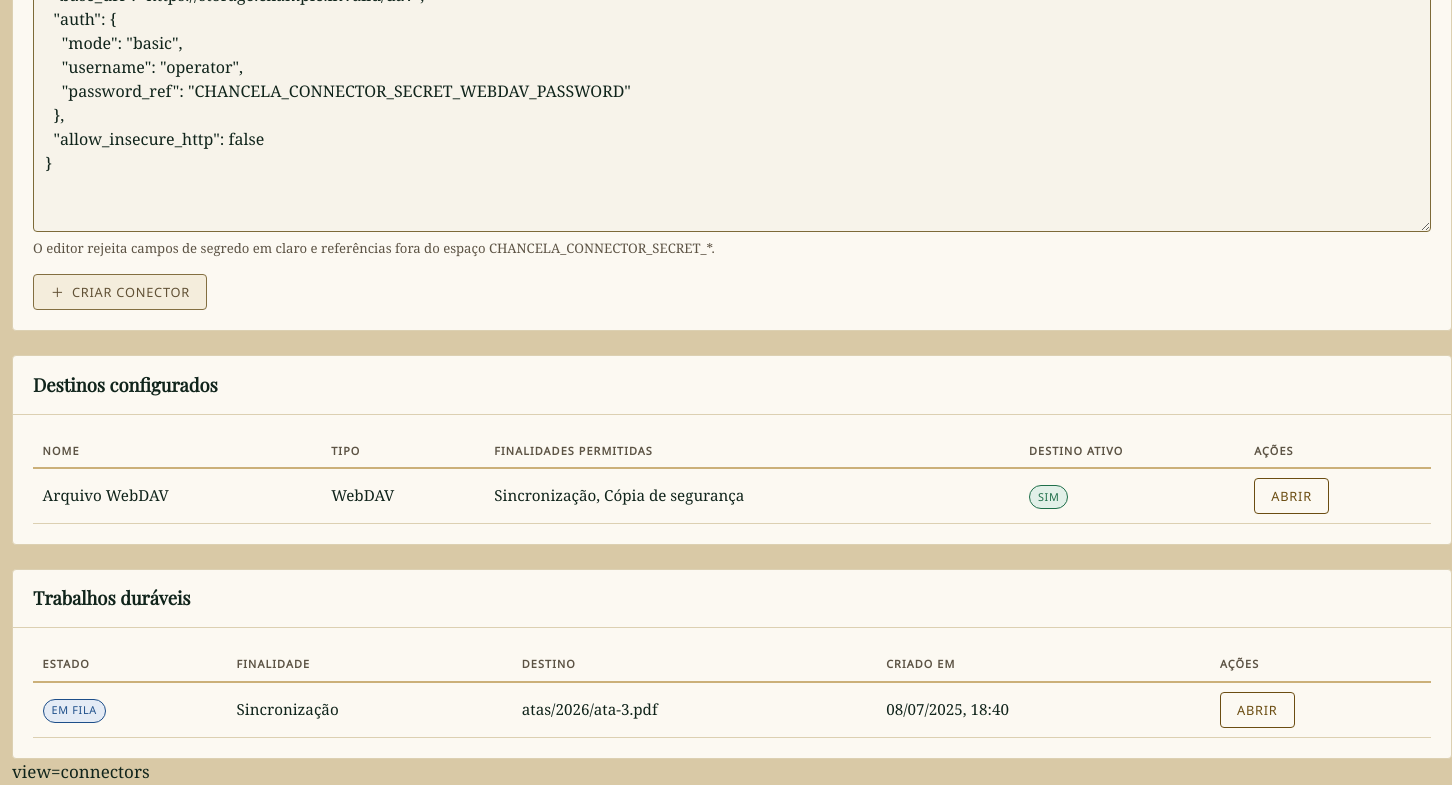
Scenario: connector target list › opens a target into a deep-linked editor
The width and height of the screenshot is (1452, 785).
What coordinates should you click on to do the following:
click the button "Abrir" in the row of "Arquivo WebDAV"
I would click on:
 (1292, 496)
Its box is [1254, 478, 1329, 514].
(page scrolled)
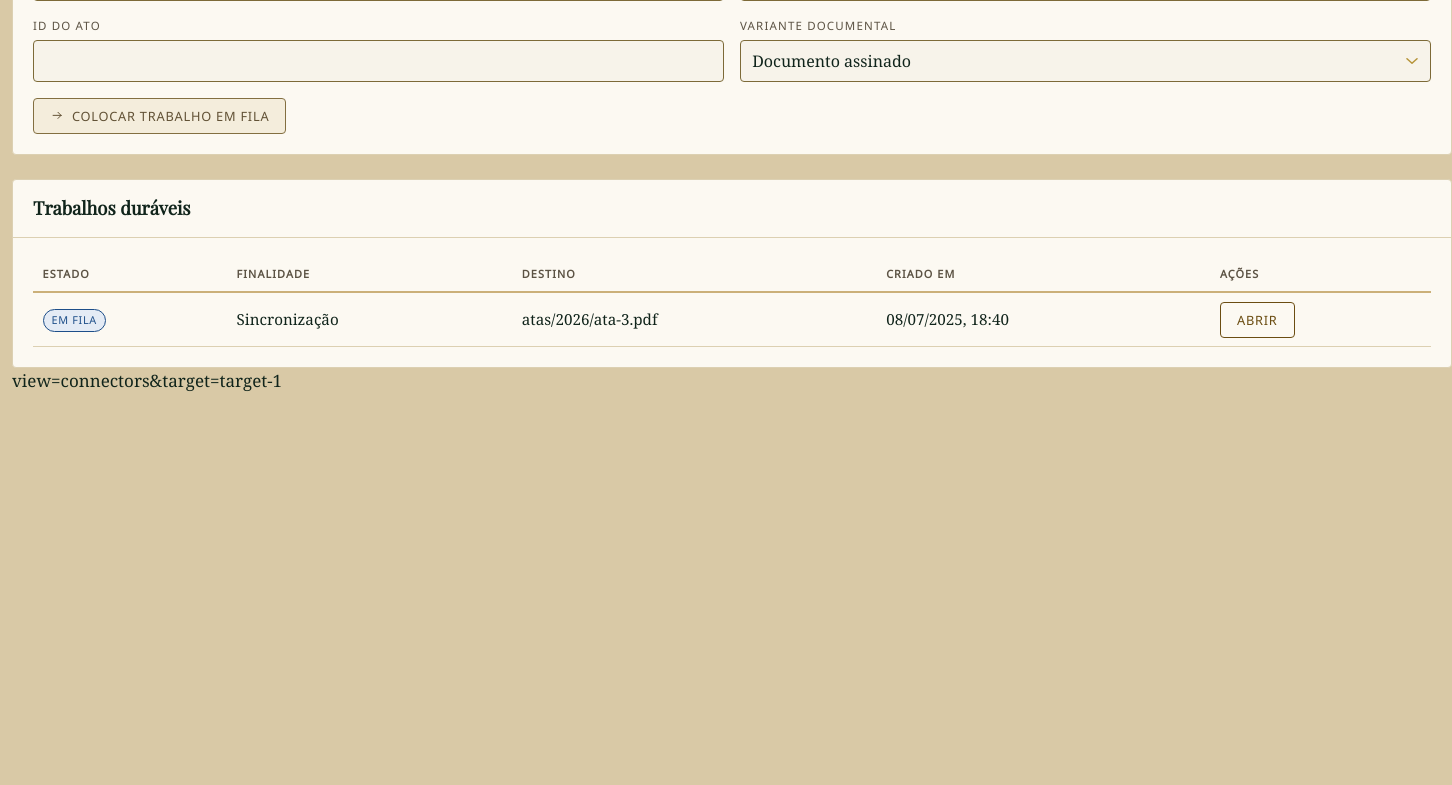
Now the text with test id "search" shows "target=target-1", box [12, 369, 282, 392]
